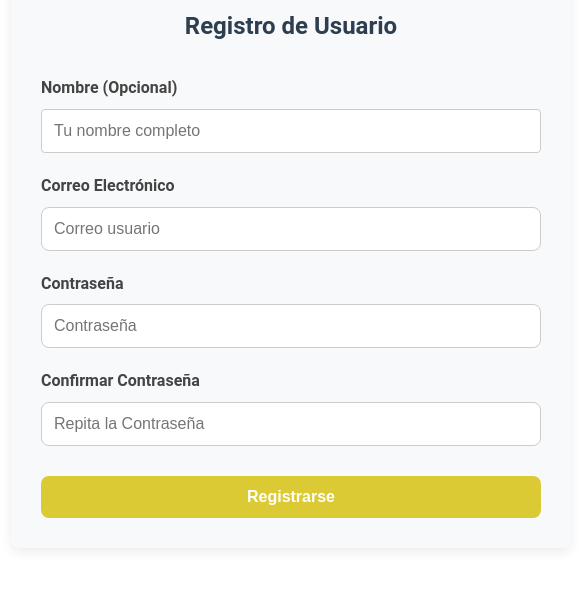
Componente Registro - Validaciones y Lógica › debe mostrar error si las contraseñas no coinciden y no debe intentar registrar
The width and height of the screenshot is (583, 609).
Type "test@gmail.com" into the field labelled "Correo Electrónico".
click(291, 229); type("test@gmail.com")  # box top-left (41, 207), bottom-right (541, 251)
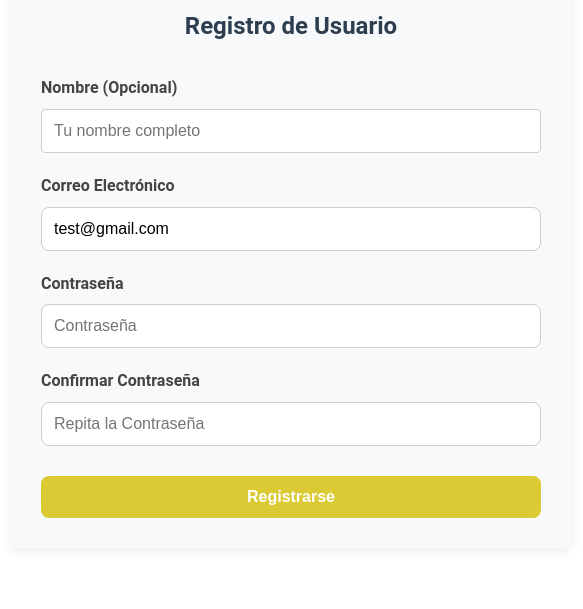
Type "pass1" into the password field labelled "Contraseña".
click(291, 326); type("pass1")  # box top-left (41, 304), bottom-right (541, 348)
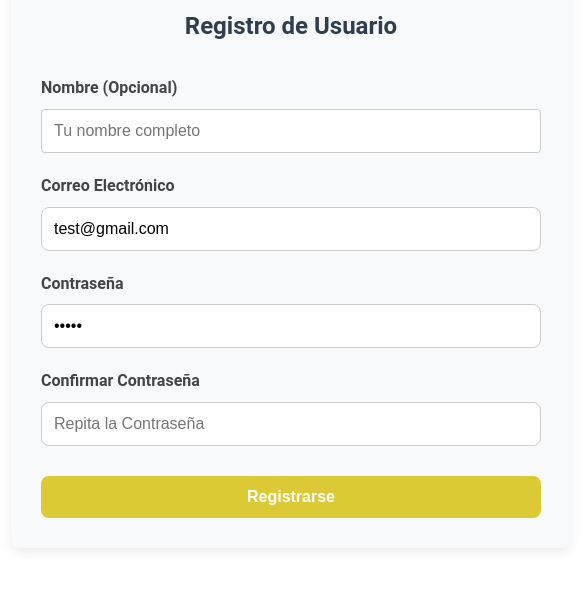
Type "pass2" into the password field labelled "Confirmar Contraseña".
click(291, 424); type("pass2")  # box top-left (41, 402), bottom-right (541, 446)
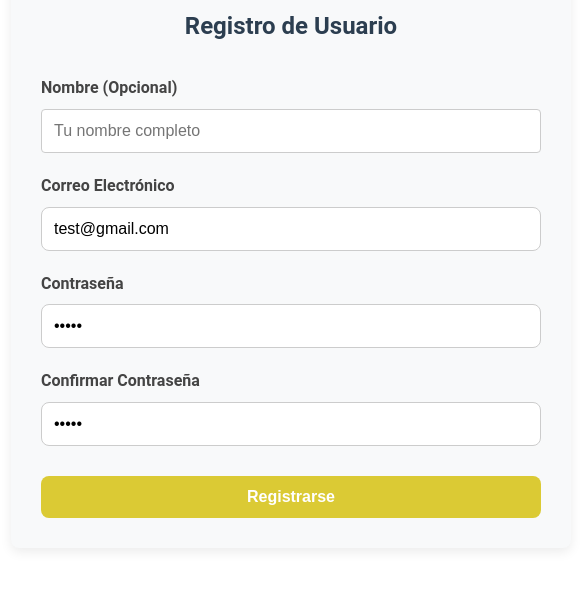
Click the button "Registrarse".
click(291, 497)  # box top-left (41, 476), bottom-right (541, 518)
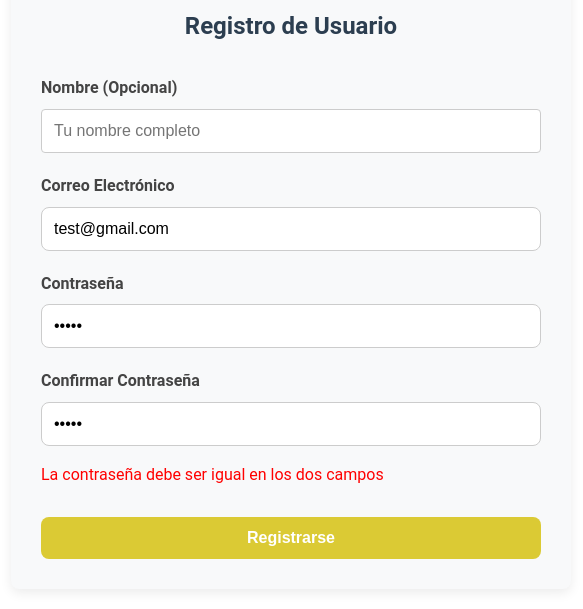
Expected: the text "La contraseña debe ser igual en los dos campos" is shown, top-left (41, 465), bottom-right (384, 484)
